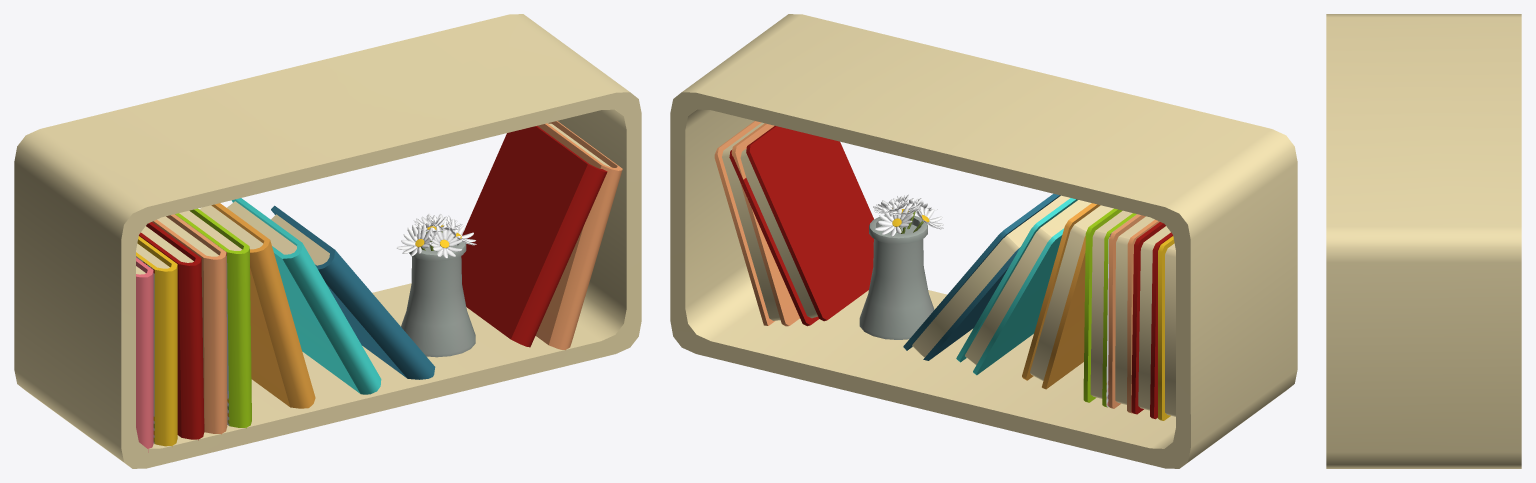
The model's file is Modular_bookshelf_part_9.FBX.
3 views of the same model, side by side, from view 1: azimuth 30°, elevation 25°; view 2: azimuth 150°, elevation 25°; view 3: azimuth 270°, elevation 25° (orthographic). The views are drawn at different scales.
Parts seen in each view (by area): view 1: Modular_bookshelf_part_9; view 2: Modular_bookshelf_part_9; view 3: Modular_bookshelf_part_9.
Part boxes in pixels (bbox=[...]): Modular_bookshelf_part_9: bbox=[14, 14, 641, 468]; Modular_bookshelf_part_9: bbox=[670, 14, 1297, 468]; Modular_bookshelf_part_9: bbox=[1326, 14, 1521, 468].
Bounding box in the file's own units: 64.22 × 30.81 × 22.84.
Materials: 1 (1 with a texture image).
